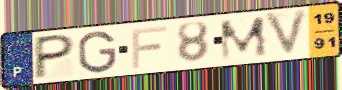8: (175, 20, 212, 66)
F: (130, 24, 170, 70)
G: (76, 29, 119, 75)
M: (217, 14, 270, 62)
P: (31, 32, 78, 82)
V: (262, 7, 312, 59)
